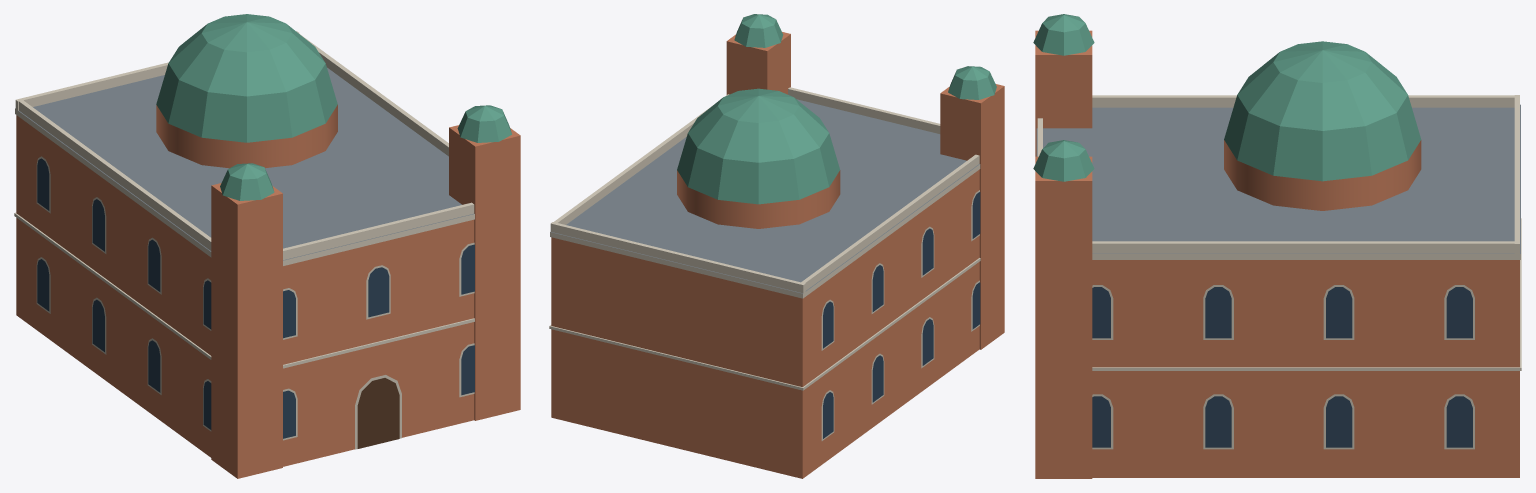
The model's file is synagogue.glb.
3 renders of one model, left to right at view 1: azimuth 30°, elevation 25°; view 2: azimuth 150°, elevation 25°; view 3: azimuth 270°, elevation 25°, orthographic. The views are drawn at different scales.
Visible parts, largest first — view 1: synagogue; view 2: synagogue; view 3: synagogue.
Part boxes in pixels (left/top/right/bottom): synagogue: left=14, top=14, right=520, bottom=478; synagogue: left=549, top=14, right=1004, bottom=478; synagogue: left=1033, top=14, right=1521, bottom=478.
Bounding box in the file's own units: 16.4 × 17.8 × 22.28.
1 material, 1 textured.
